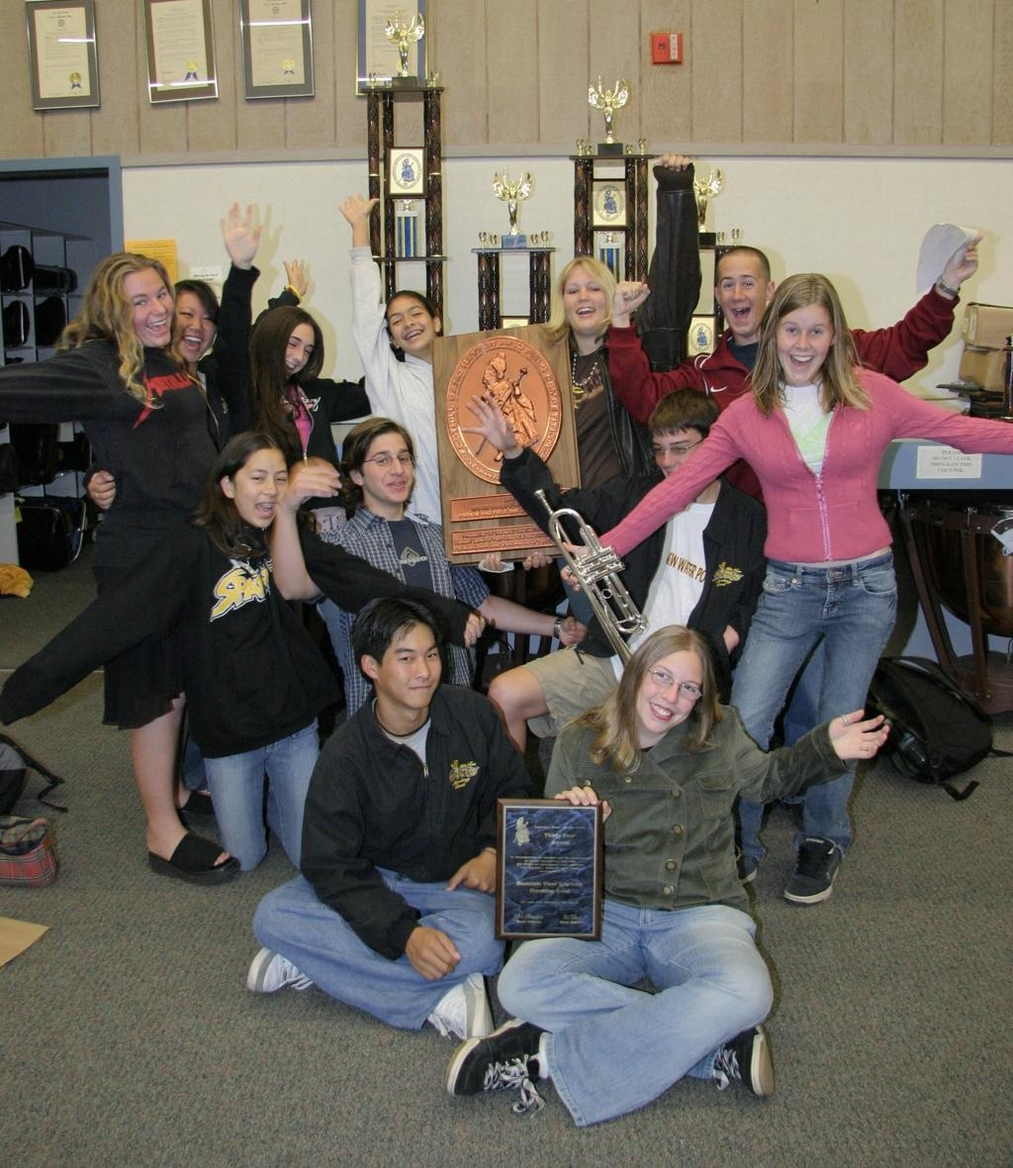human_face: (635, 648, 701, 733), (380, 625, 441, 707), (774, 305, 832, 384), (118, 267, 173, 346), (235, 449, 289, 529), (651, 421, 706, 493), (717, 254, 765, 334), (363, 431, 414, 501), (168, 292, 214, 362), (563, 263, 606, 331), (388, 296, 435, 351), (274, 321, 316, 380)
